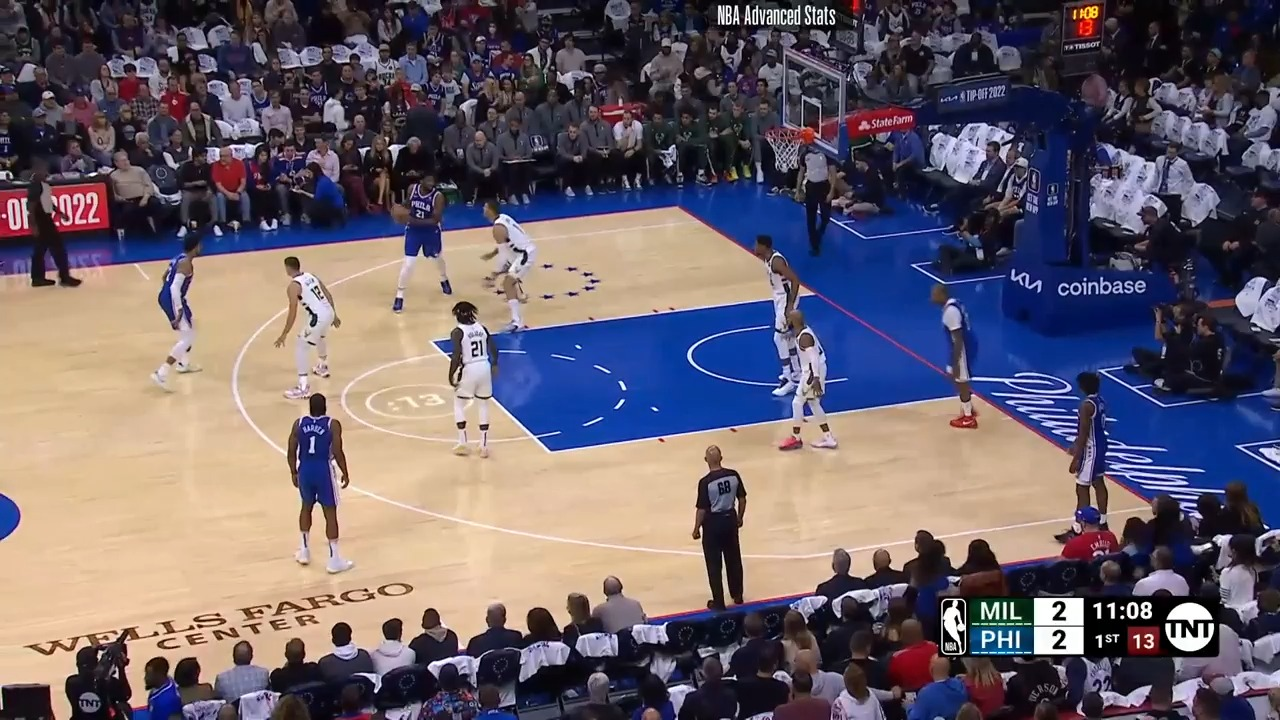net: (763, 121, 819, 174)
player: (281, 393, 357, 577), (268, 254, 339, 406), (147, 235, 214, 396), (735, 234, 798, 403), (1063, 368, 1120, 546), (387, 169, 456, 314), (438, 302, 497, 467), (926, 278, 984, 433), (780, 308, 840, 453), (472, 199, 534, 312)
referee: (686, 442, 751, 611), (22, 153, 81, 297), (795, 136, 836, 258)
